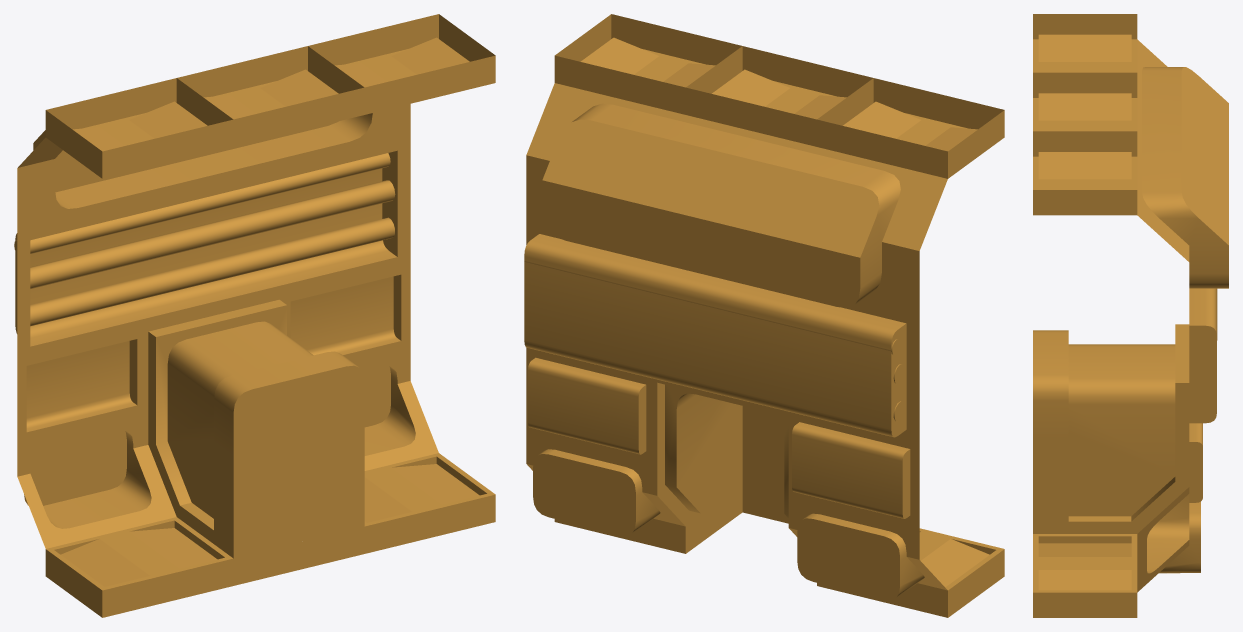
Rendered from CLow_Wall_B_Line.FBX.
3 views of the same model, side by side, from view 1: azimuth 30°, elevation 25°; view 2: azimuth 150°, elevation 25°; view 3: azimuth 270°, elevation 25° (orthographic). The views are drawn at different scales.
Parts seen in each view (by area): view 1: CLow_Wall_B_Line; view 2: CLow_Wall_B_Line; view 3: CLow_Wall_B_Line.
Boxes of the visible parts, x1,y1,x2,y2 form: CLow_Wall_B_Line: (14, 14, 495, 617); CLow_Wall_B_Line: (524, 14, 1004, 617); CLow_Wall_B_Line: (1033, 14, 1228, 617).
Bounding box in the file's own units: 300 × 340 × 141.
